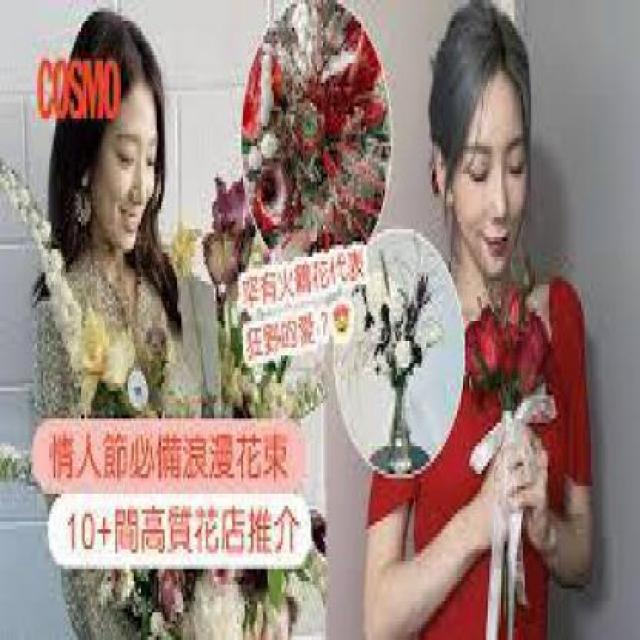flower: (264, 27, 368, 225), (465, 292, 549, 399), (380, 270, 432, 382), (196, 186, 256, 257)
